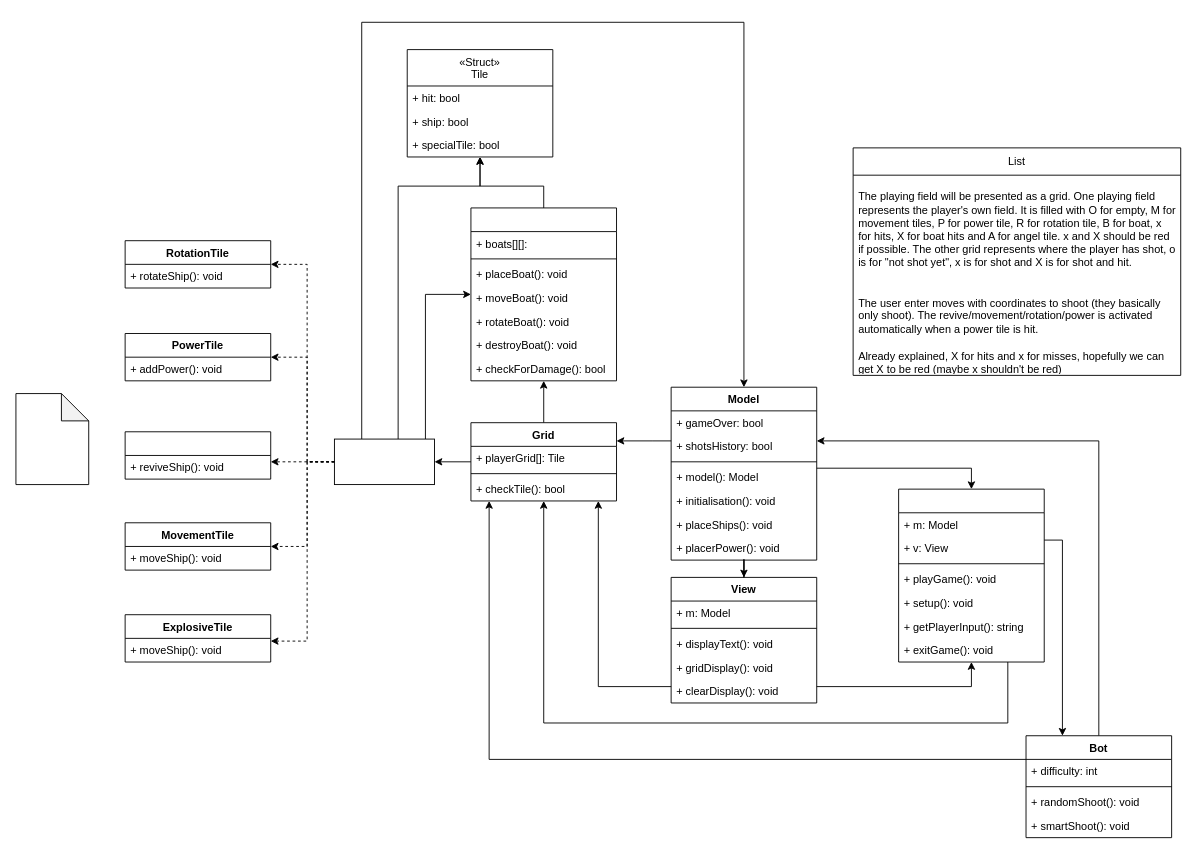
The diagram is 1197 pixels wide and 856 high, and some of its shapes have lost their labels. Each missing label, with the box of its shape:
AngleTile: (124, 431, 271, 479)
BoatManagement: (470, 207, 617, 381)
Controller: (898, 488, 1044, 662)
Usefull ? Not sure: (15, 393, 89, 485)
«interface» SpecialTiles: (334, 438, 435, 485)
